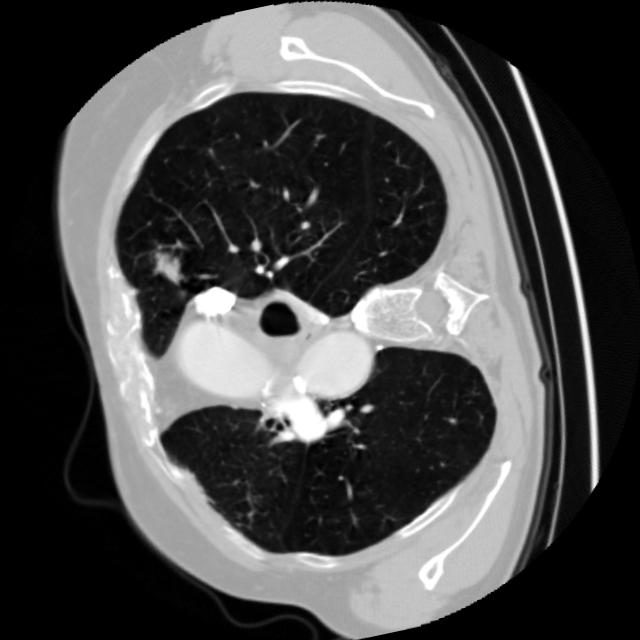nodule: (128, 232, 205, 308)
